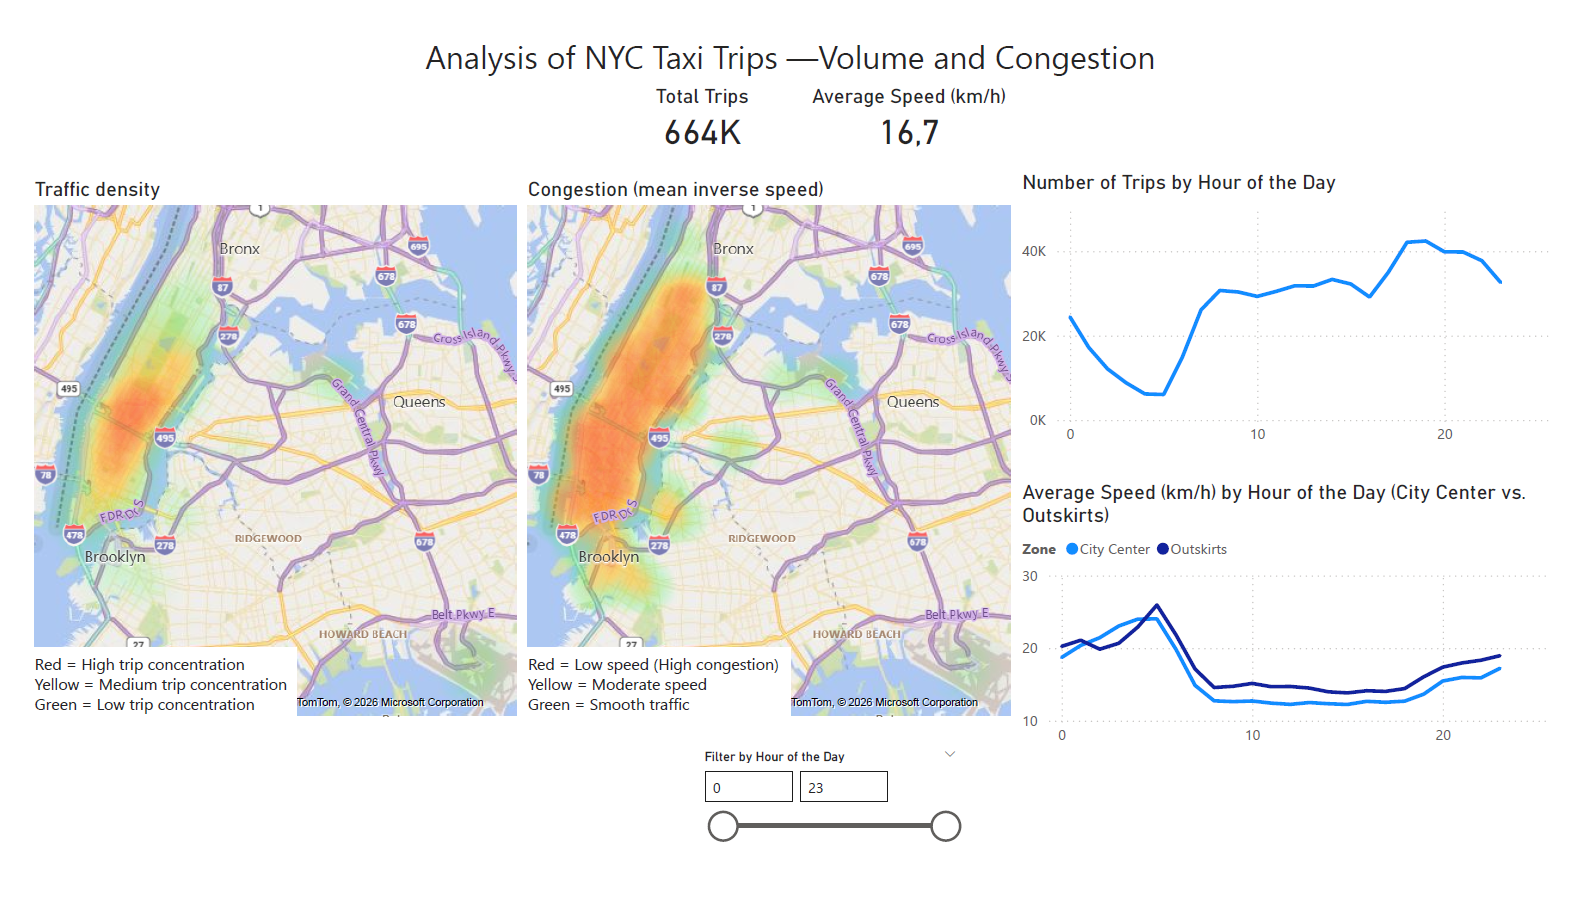

This screenshot's page, from the dashboard's own definition file:
{"tool":"powerbi","page":{"name":"Page 1","canvas":[1280,720],"ordinal":0},"visuals":[{"type":"card","title":"Total Trips","fields":{"Values":["Sum(congestion_points_hour_all.nb_trips)"]},"box":[458,46.5,213.8,57.5],"z":0},{"type":"card","title":"Average Speed (km/h)","fields":{"Values":["Avg(congestion_points_hour_all.avg_speed_kmh)"]},"box":[639.2,46.5,197.5,57.5],"z":1000},{"type":"map","title":"Congestion (mean inverse speed)","fields":{"Y":["congestion_points_hour_all.lat_zone"],"X":["congestion_points_hour_all.lon_zone"],"Size":["Avg(congestion_points_hour_all.speed_scaled)"]},"box":[413.8,123.8,413.8,457.5],"z":2000},{"type":"lineChart","title":"Number of Trips by Hour of the Day","fields":{"Category":["congestion_points_hour_all.pickup_hour"],"Y":["Sum(congestion_points_hour_all.nb_trips)"]},"box":[827.5,118,452.5,240],"z":4000},{"type":"slicer","fields":{"Values":["congestion_points_hour_all.pickup_hour"]},"box":[553.8,597.5,236.2,96.2],"z":5000},{"type":"textbox","box":[327.5,0,642.5,47.5],"z":6000},{"type":"textbox","box":[413.8,517.5,225,63.8],"z":7000},{"type":"map","title":"Traffic density","fields":{"Y":["congestion_points_hour_all.lat_zone"],"X":["congestion_points_hour_all.lon_zone"],"Size":["Sum(congestion_points_hour_all.nb_trips)"]},"box":[1.2,123.8,412.5,457.5],"z":8000},{"type":"textbox","box":[1.2,517.5,223.8,63.8],"z":9000},{"type":"lineChart","title":"Average Speed (km/h) by Hour of the Day (City Center vs. Outskirts)","fields":{"Category":["congestion_points_hour_all.pickup_hour"],"Y":["Avg(congestion_points_hour_all.avg_speed_kmh)"],"Series":["congestion_points_hour_all.zone_type"]},"box":[827.5,377.5,452.5,232.5],"z":10000}]}

Visuals, with their boxes in screenshot pixels (x1, y1, x2, y2), scaled from the page's 1280x720 canvas onto the 1583x913 screenshot:
"Total Trips" card: 566, 59, 831, 132
"Average Speed (km/h)" card: 791, 59, 1035, 132
"Congestion (mean inverse speed)" map: 512, 157, 1024, 737
"Number of Trips by Hour of the Day" lineChart: 1023, 150, 1582, 454
slicer - congestion_points_hour_all.pickup_hour: 685, 758, 977, 880
textbox: 405, 0, 1200, 60
textbox: 512, 656, 790, 737
"Traffic density" map: 1, 157, 512, 737
textbox: 1, 656, 278, 737
"Average Speed (km/h) by Hour of the Day (City Center vs. Outskirts)" lineChart: 1023, 479, 1582, 774
